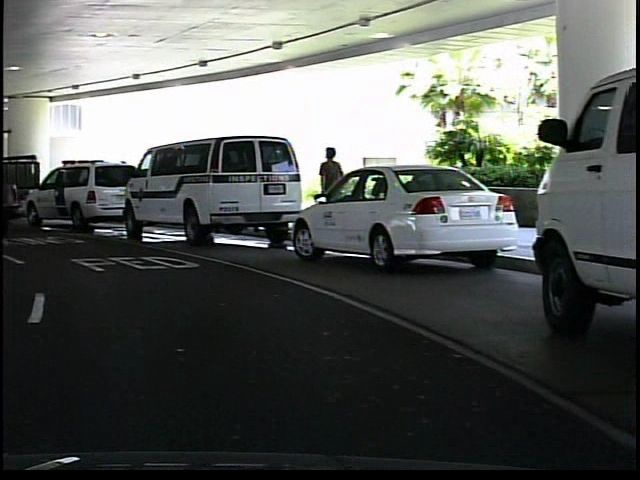person: (312, 143, 347, 234)
